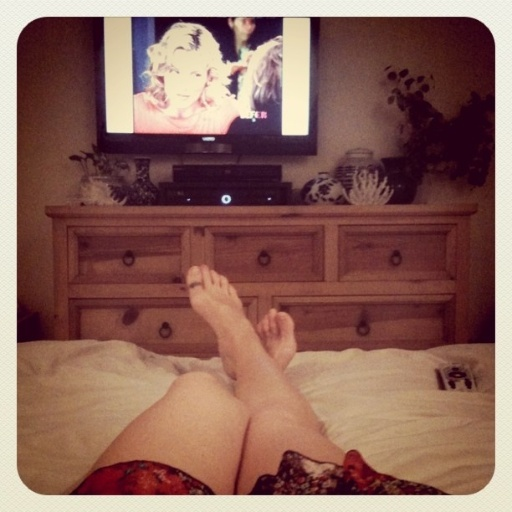hand: (226, 60, 243, 76)
